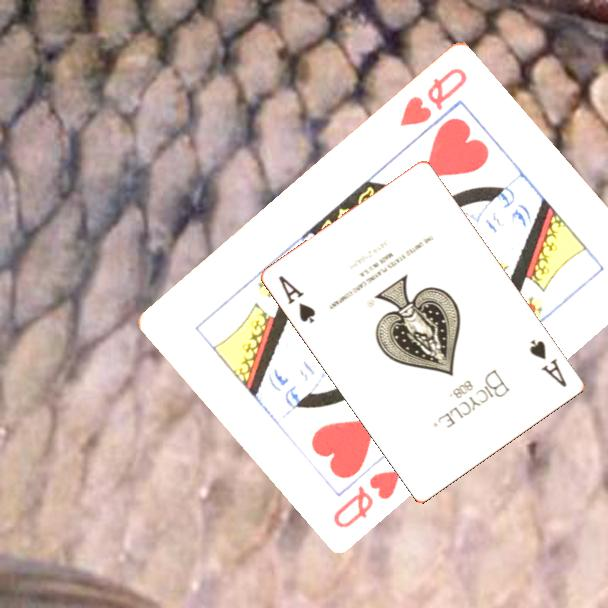h12: (329, 465, 404, 531), (396, 63, 470, 129)
s01: (526, 336, 570, 390), (275, 272, 319, 326)
